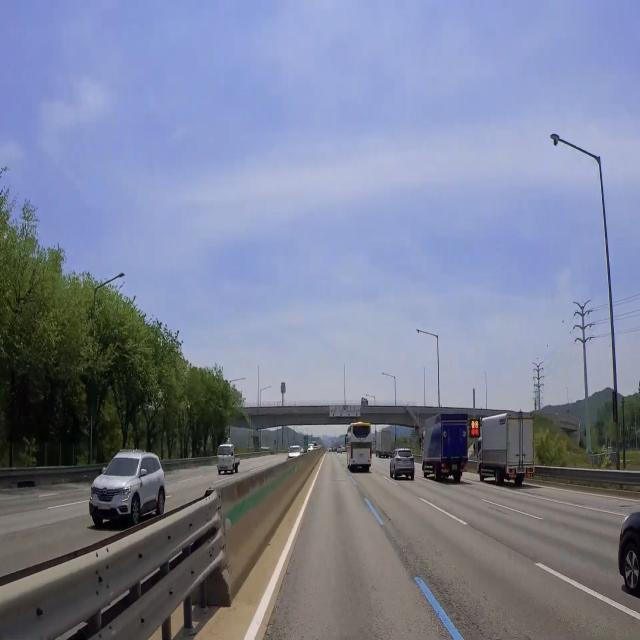car: (95, 502, 114, 516), (449, 461, 462, 475), (514, 463, 528, 475), (356, 449, 368, 463), (399, 459, 413, 467)
